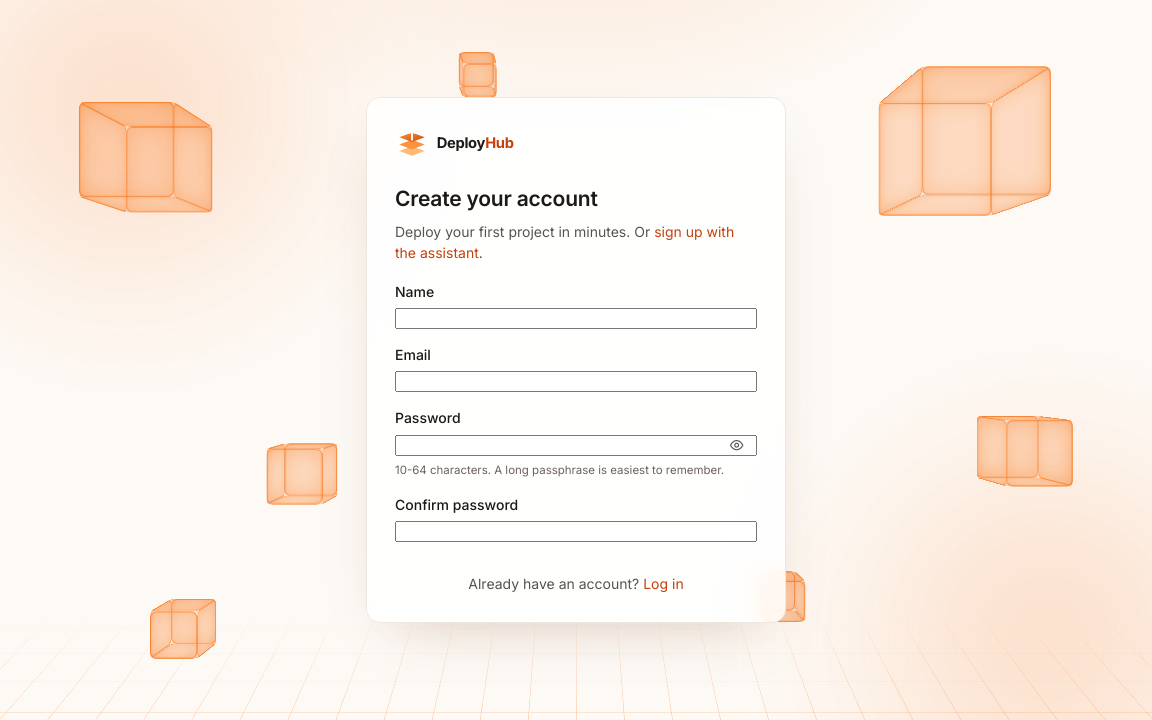
Test: SignupComponent › marks the email field when the account already exists
In the field labelled "Name": coordinates (576, 319) [395,308,757,329], type "Bob"
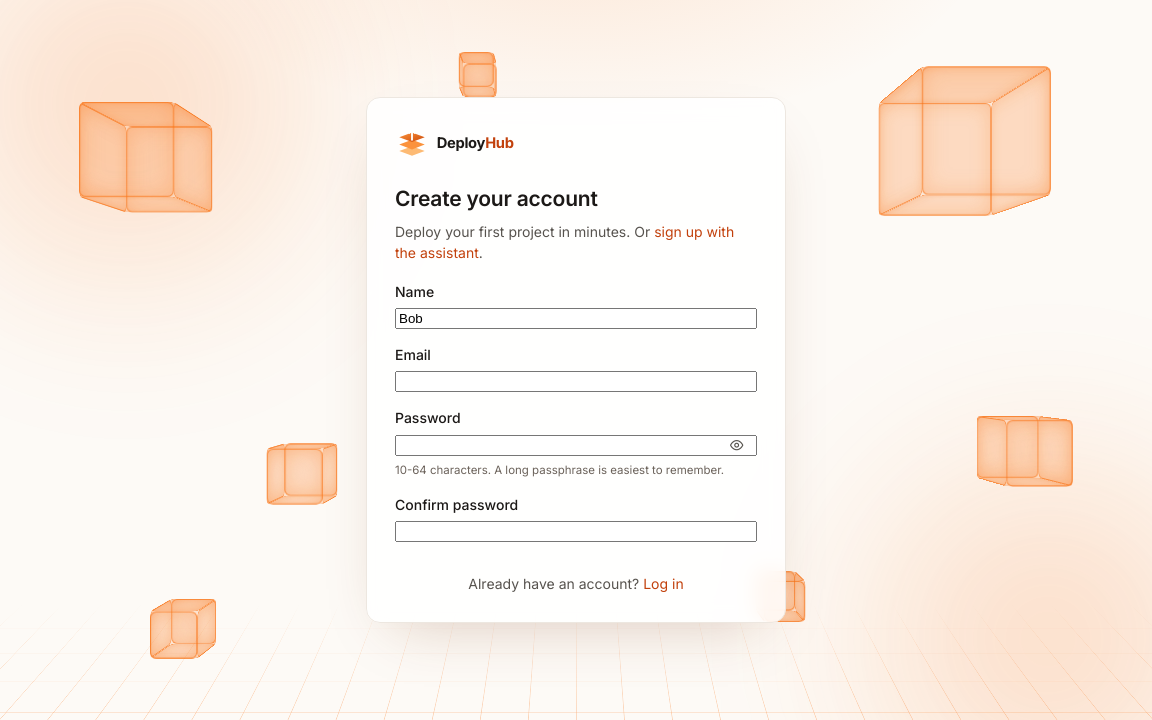
In the field labelled "Email": coordinates (576, 382) [395,371,757,392], type "bob@example.com"
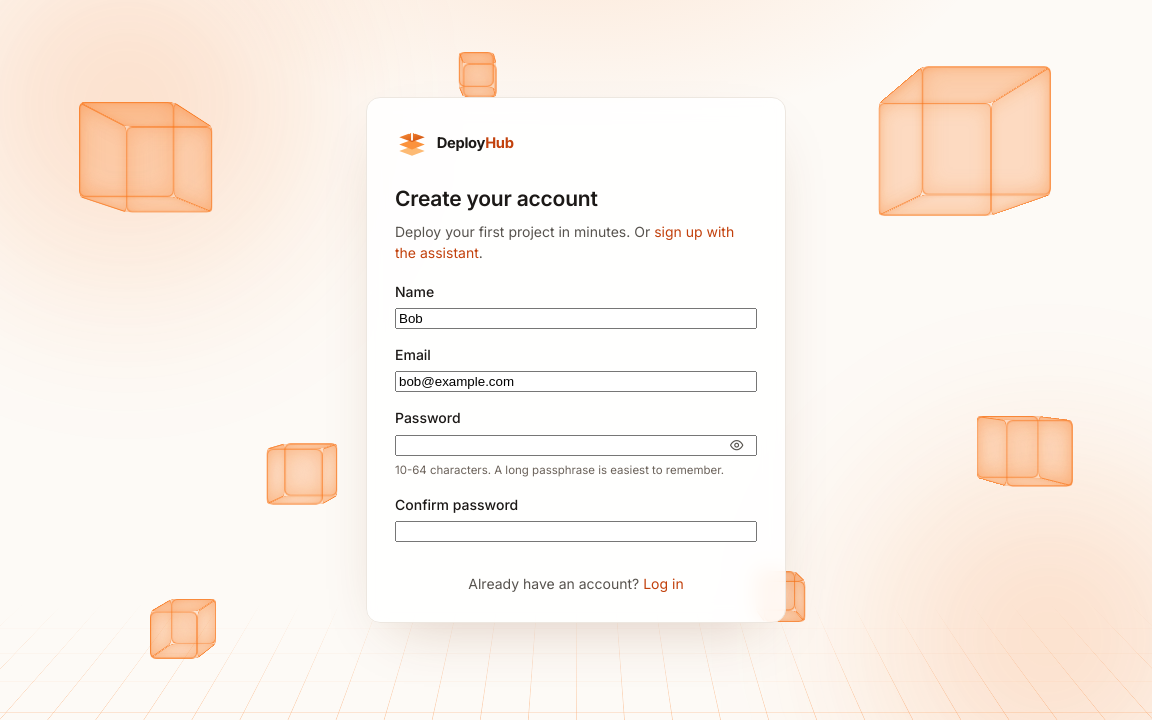
In the password field labelled "Password": coordinates (576, 446) [395,435,757,456], type "correct-horse-battery"
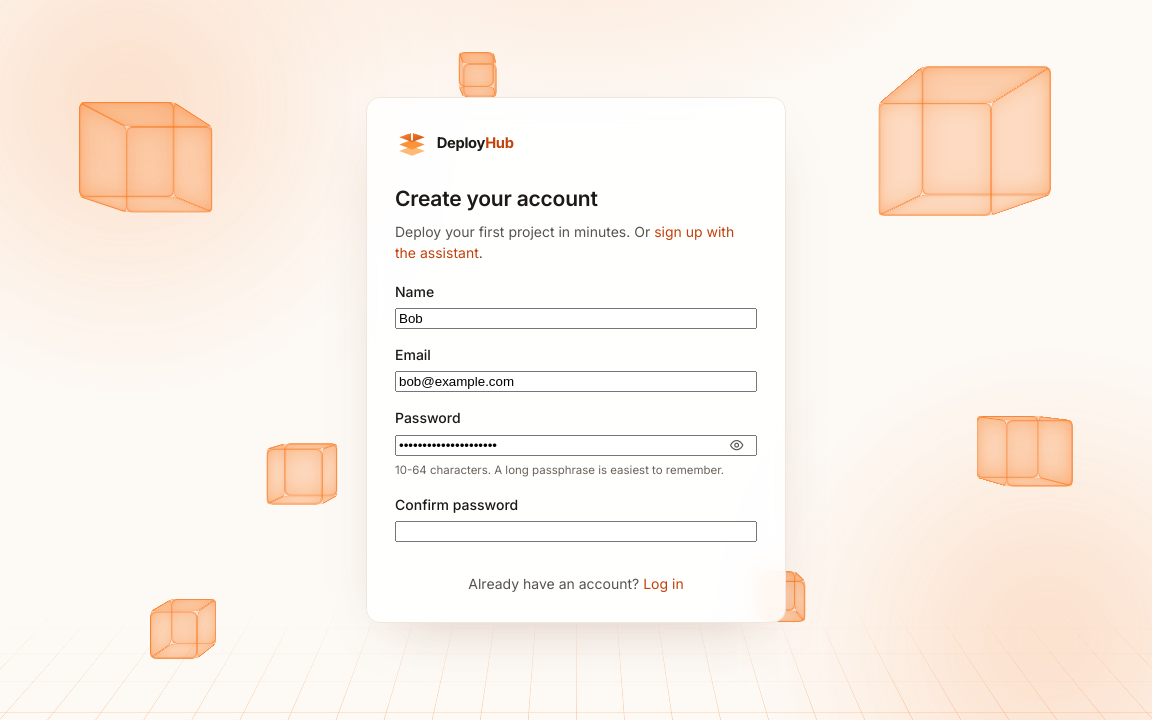
In the password field labelled "Confirm password": coordinates (576, 531) [395,521,757,542], type "correct-horse-battery"
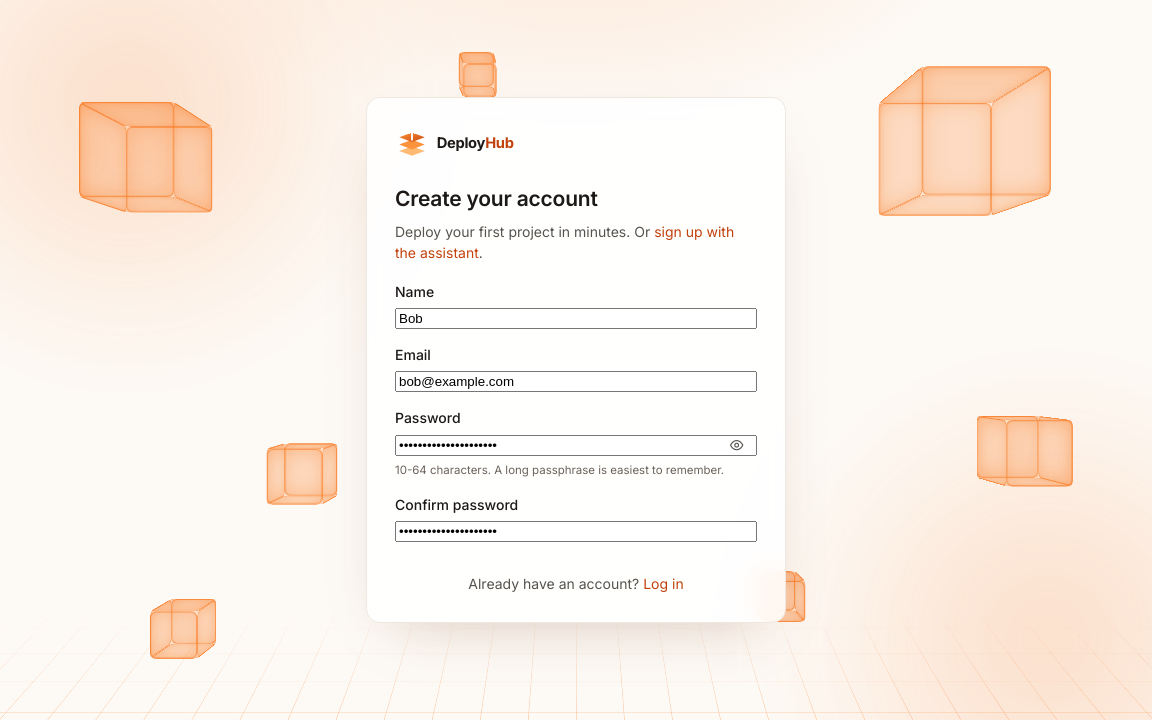
Submit the form, box [366,97,786,623]
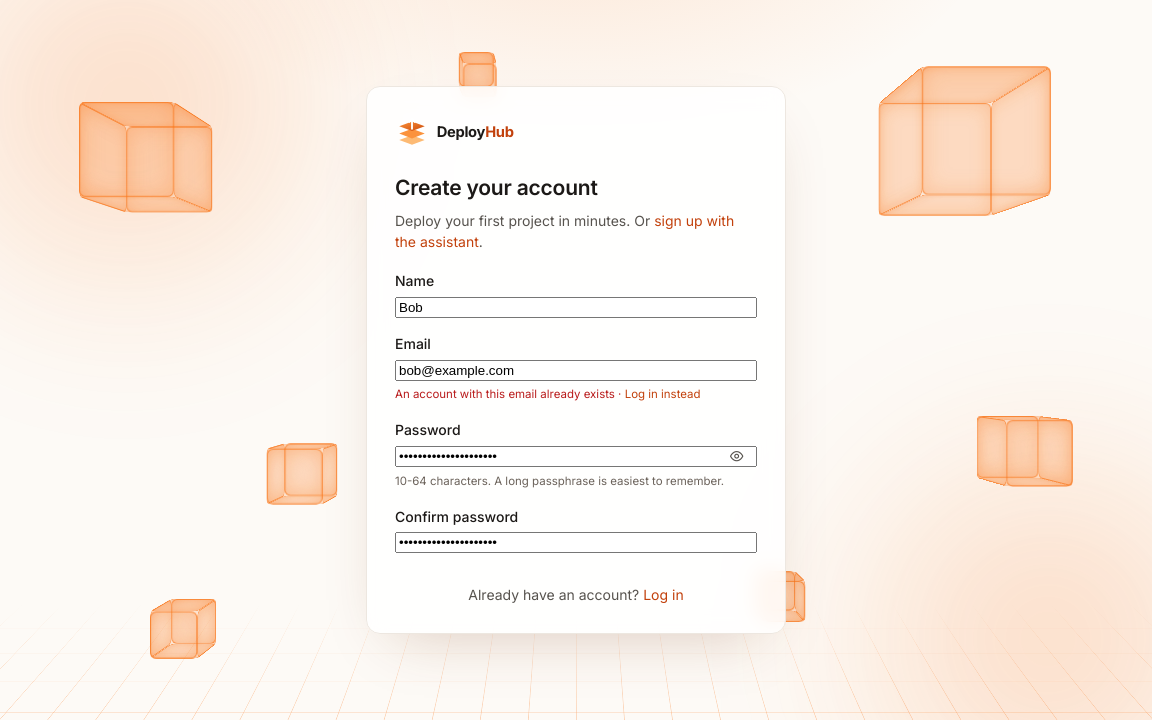
Now the text "An account with this email already exists" is shown, box [395,387,618,401]
Now the text "Log in instead" is shown, box [625,387,700,401]
